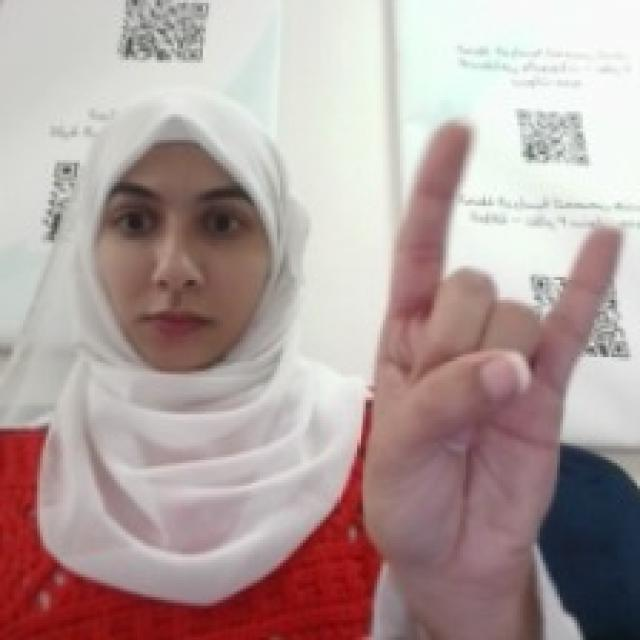No: (354, 111, 627, 577)
